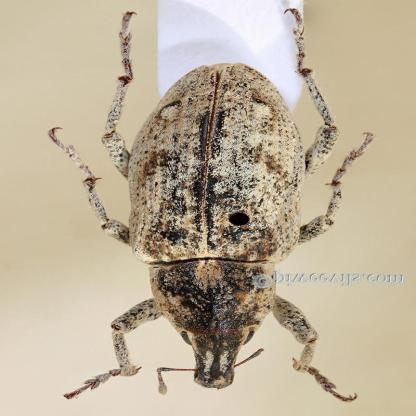rice-bug: (86, 8, 352, 396)
